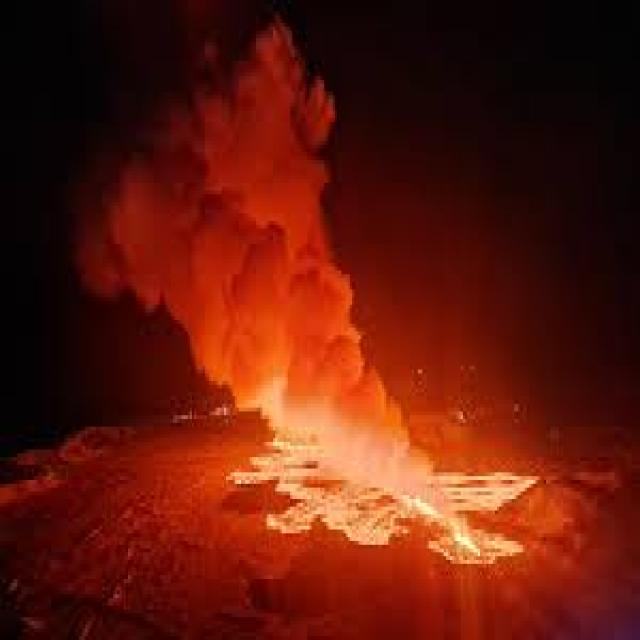explosion: (69, 18, 551, 603)
